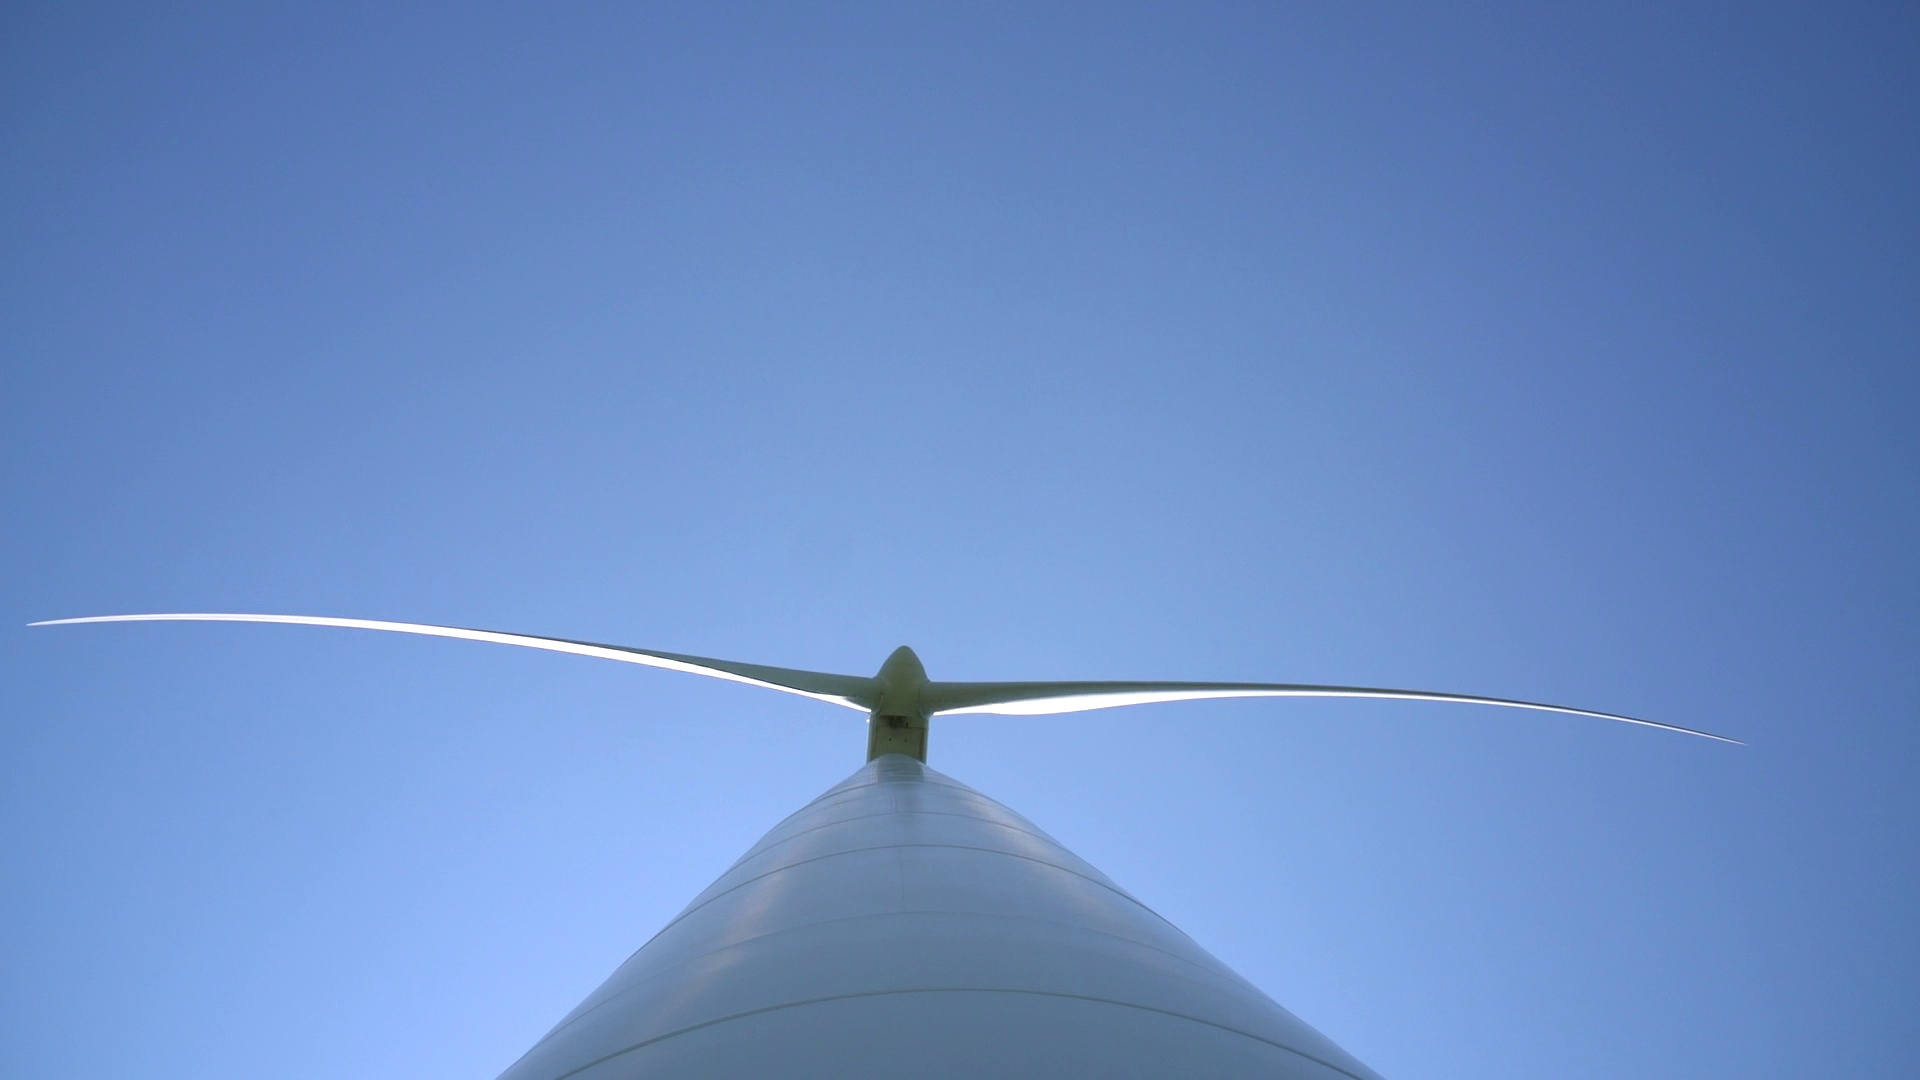turbine: (926, 644, 1807, 773), (15, 588, 884, 711)
